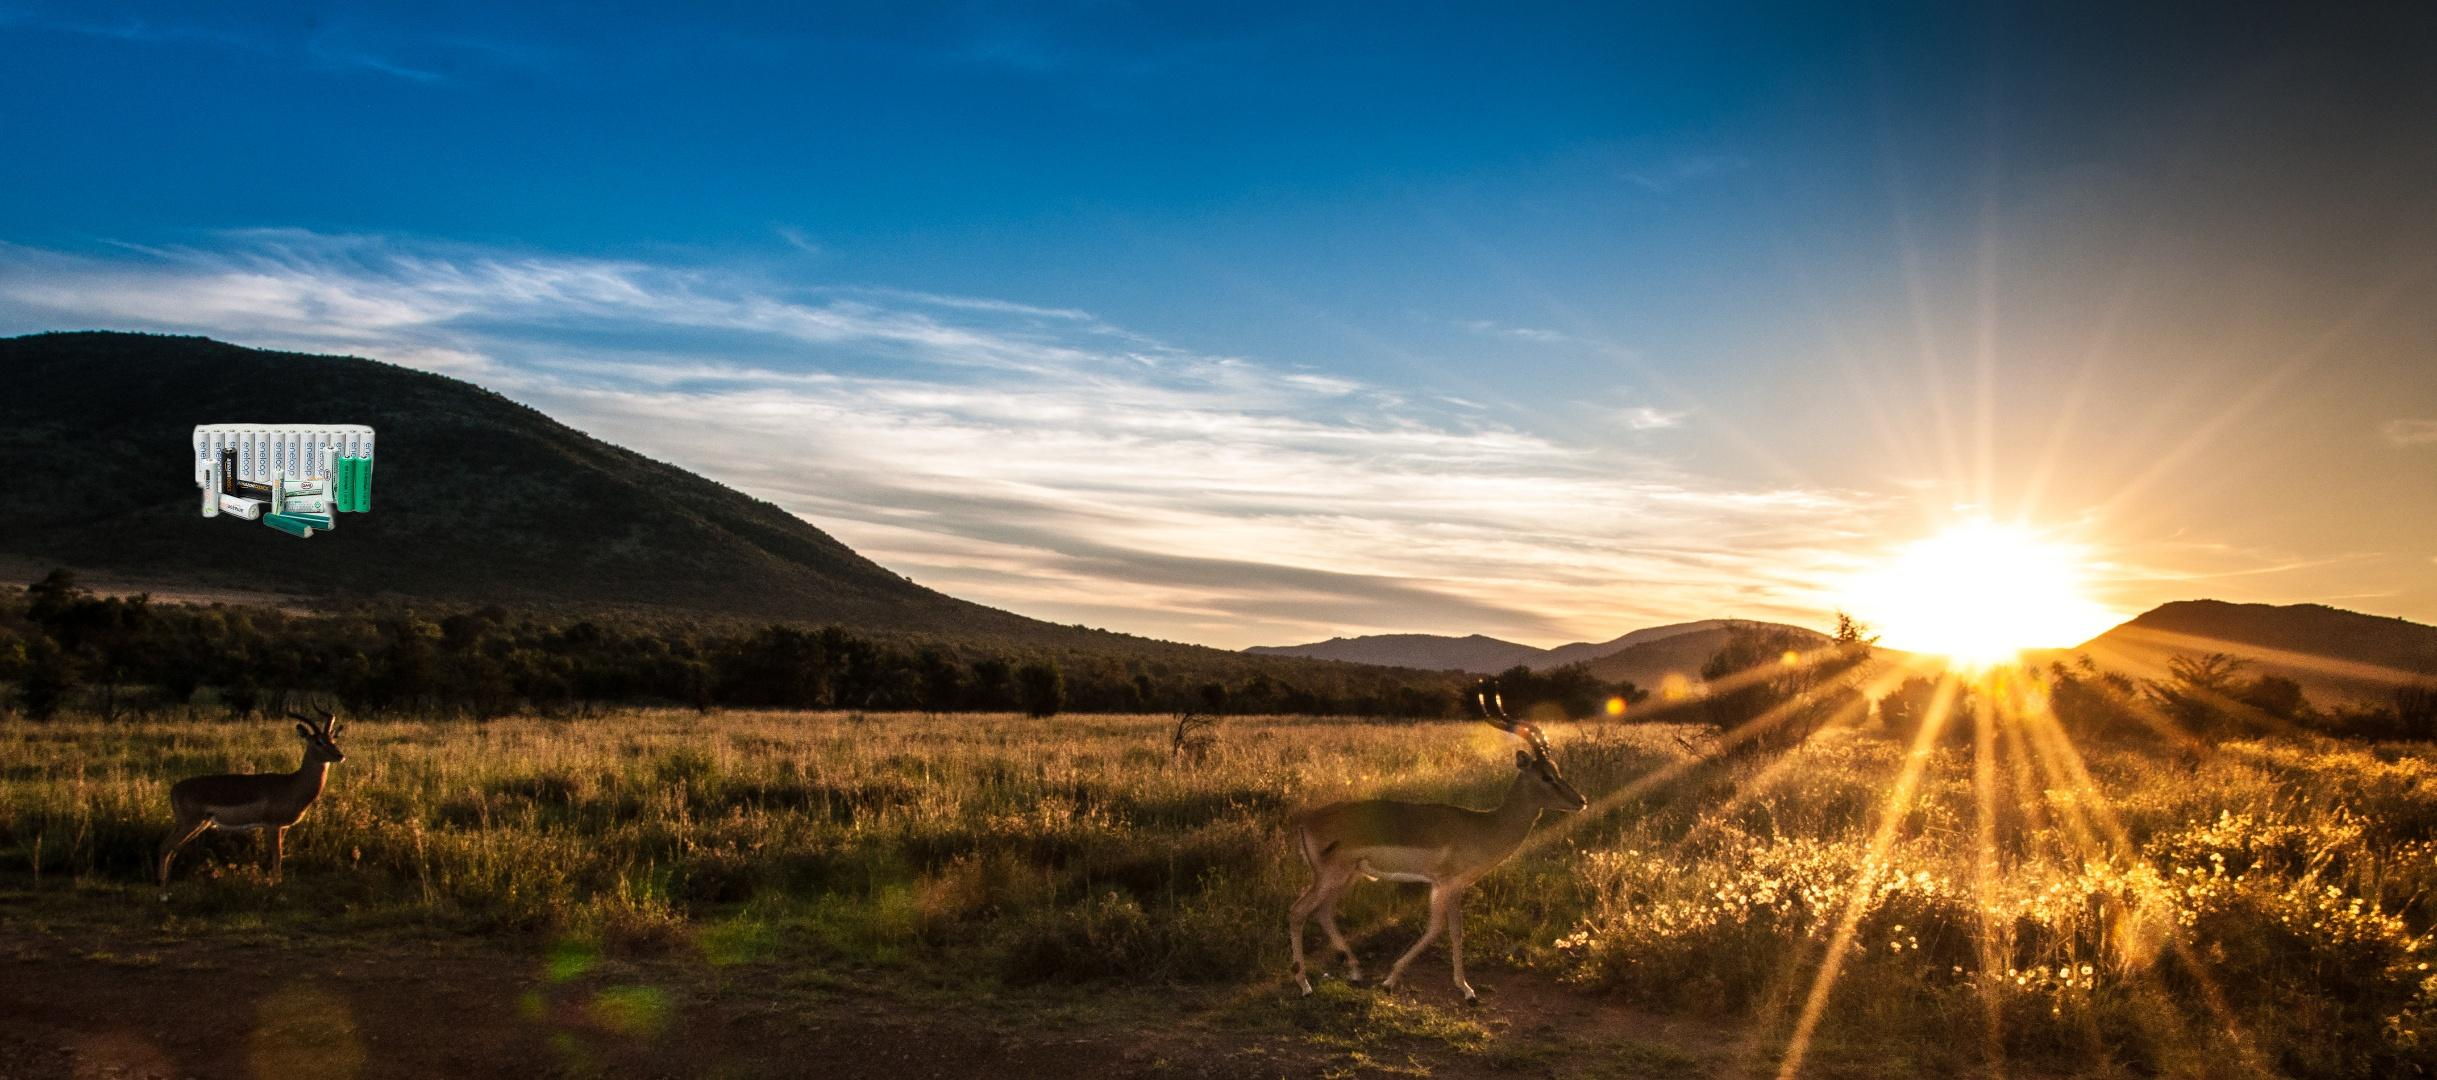battery: (190, 420, 379, 544)
metal-cans: (1307, 816, 1776, 1080)
